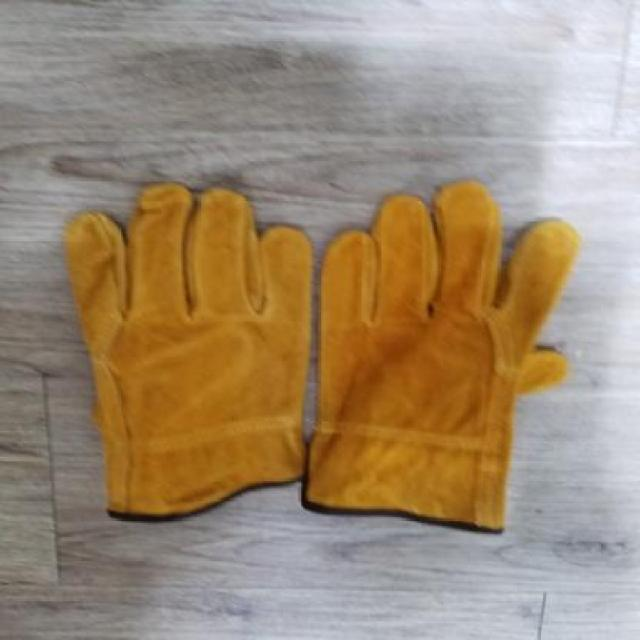Gloves: (313, 179, 572, 536), (68, 182, 310, 520)
